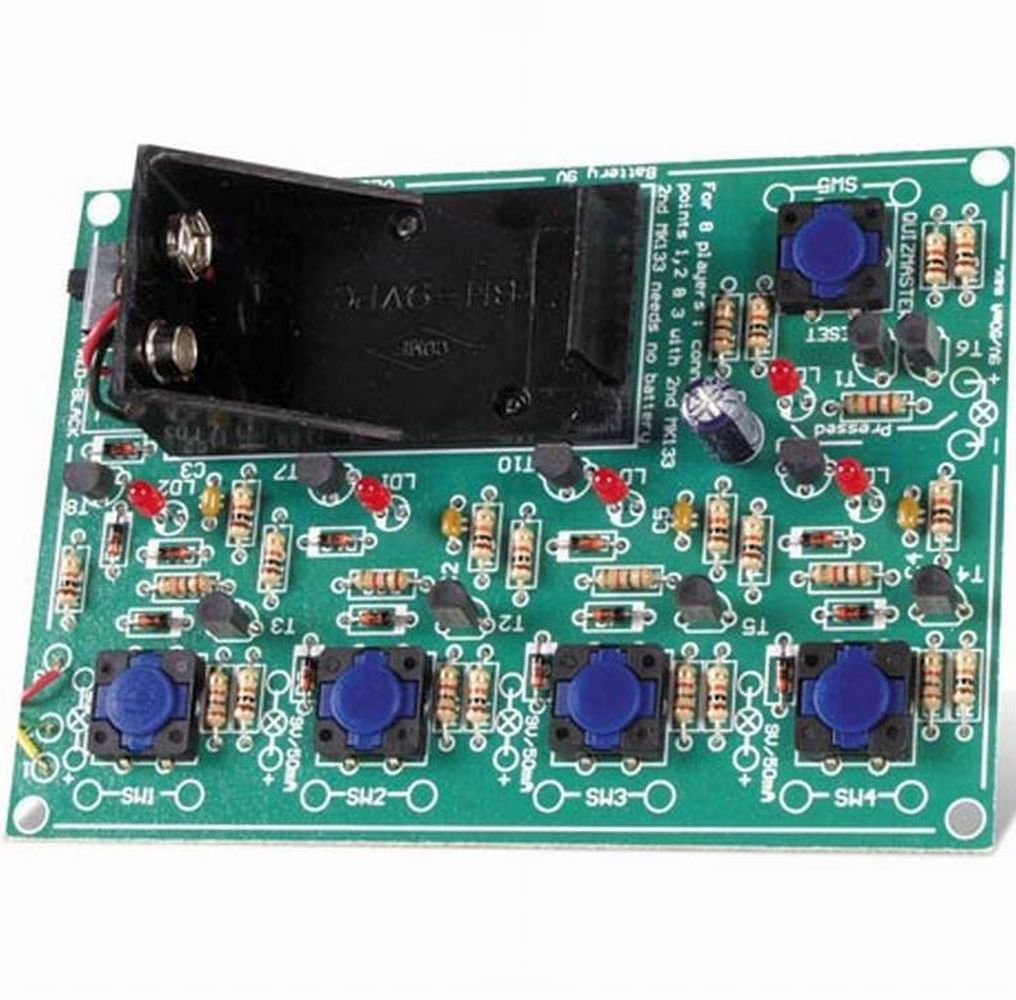Capacitor: (677, 374, 763, 467)
Diode: (525, 650, 552, 696), (796, 528, 844, 552), (353, 607, 405, 629), (772, 655, 797, 699), (295, 655, 320, 697), (103, 519, 128, 561), (309, 528, 360, 548), (832, 601, 877, 623), (154, 542, 196, 564), (101, 438, 144, 459), (592, 604, 634, 625), (565, 534, 611, 553), (132, 611, 174, 630)
LED: (767, 356, 810, 401), (124, 479, 170, 520), (836, 455, 876, 501), (591, 464, 632, 508), (352, 476, 395, 515)
Resistor: (706, 297, 743, 358), (949, 222, 985, 284), (950, 648, 981, 713), (841, 390, 910, 419), (915, 652, 947, 714), (464, 665, 495, 729), (432, 666, 463, 729), (927, 478, 957, 543), (809, 562, 878, 590), (468, 507, 500, 567), (671, 663, 700, 727), (258, 530, 288, 591), (509, 523, 538, 583), (349, 567, 415, 593), (704, 665, 733, 724), (706, 496, 734, 556), (234, 666, 262, 726), (58, 552, 86, 612), (592, 567, 661, 591), (740, 515, 767, 576), (745, 295, 772, 355), (154, 573, 216, 599), (923, 228, 949, 289), (205, 668, 230, 730), (229, 483, 256, 540)
